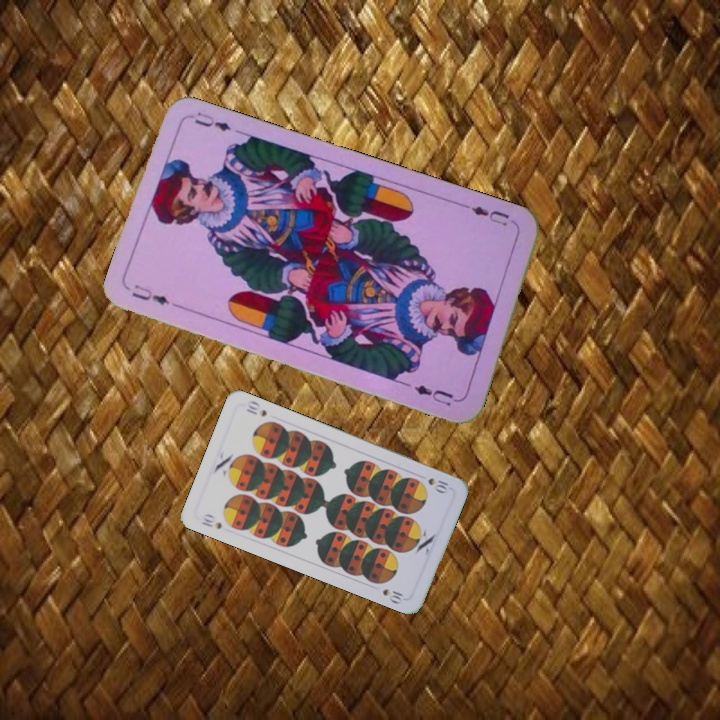EU: (460, 202, 512, 229), (127, 281, 172, 308)
S10: (197, 510, 224, 532), (424, 474, 451, 495)
